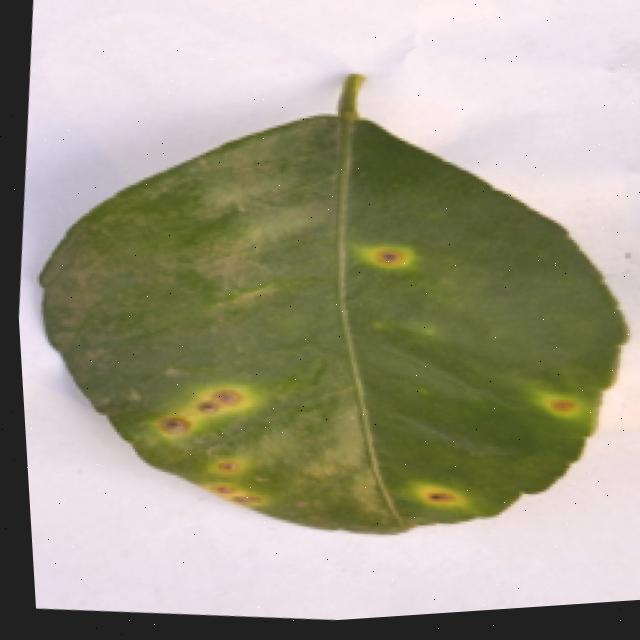canker: (38, 76, 623, 532), (128, 376, 291, 538), (342, 210, 430, 309), (398, 455, 472, 540), (518, 366, 594, 443)
